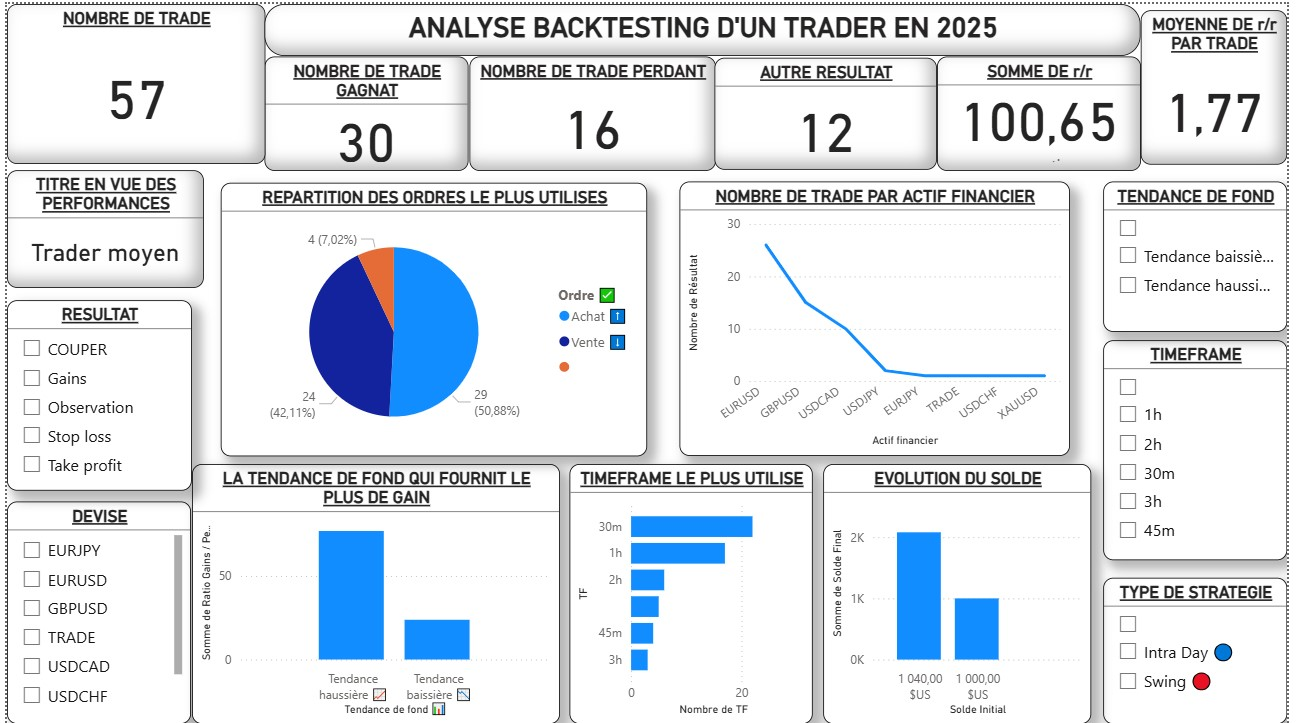

Layout of this report page (visuals, bound fields, positions):
{"tool":"powerbi","page":{"name":"ANALYSE BACKTESTING","canvas":[1280,720],"ordinal":0},"visuals":[{"type":"card","title":"NOMBRE DE TRADE GAGNAT","fields":{"Values":["Sum(Backtesting 2025.Win)"]},"box":[258,52,204,114],"z":0},{"type":"card","title":"NOMBRE DE TRADE PERDANT","fields":{"Values":["Sum(Backtesting 2025.Lose)"]},"box":[462,52,246,114],"z":1000},{"type":"card","title":"AUTRE RESULTAT","fields":{"Values":["Sum(Backtesting 2025.Autre_Resultat)"]},"box":[708,54,222,112],"z":2000},{"type":"card","title":"SOMME DE r/r","fields":{"Values":["Backtesting 2025.sumratio"]},"box":[930,52,204,114],"z":3000},{"type":"slicer","title":"TYPE DE STRATEGIE","fields":{"Values":["Backtesting 2025.STRATEGIE🏦 "]},"box":[1096,574,184,146],"z":4000},{"type":"slicer","title":"TIMEFRAME","fields":{"Values":["Backtesting 2025.TF"]},"box":[1096,336,184,220],"z":5000},{"type":"slicer","title":"TENDANCE DE FOND","fields":{"Values":["Backtesting 2025.Tendance de fond 📊 "]},"box":[1096.2,177.5,183.8,150],"z":6000},{"type":"slicer","title":"DEVISE","fields":{"Values":["Backtesting 2025.Actif financier"]},"box":[0,498,184,222],"z":7000},{"type":"lineChart","title":"NOMBRE DE TRADE PAR ACTIF FINANCIER","fields":{"Category":["Backtesting 2025.Actif financier"],"Y":["CountNonNull(Backtesting 2025.Résultat)"]},"box":[672,178,390,274],"z":8000},{"type":"clusteredColumnChart","title":"LA TENDANCE DE FOND QUI FOURNIT LE PLUS DE GAIN","fields":{"Category":["Backtesting 2025.Tendance de fond 📊 "],"Y":["Sum(Backtesting 2025.Ratio Gains / Pertes)"]},"box":[184.4,460,367.8,260],"z":9000},{"type":"slicer","title":"RESULTAT","fields":{"Values":["Backtesting 2025.Résultat"]},"box":[0,296.7,184.4,190],"z":10000},{"type":"pieChart","title":"REPARTITION DES ORDRES LE PLUS UTILISES","fields":{"Category":["Backtesting 2025.Ordre ✅ "],"Y":["Backtesting 2025.Quantité Totale"]},"box":[213.3,178.3,426.7,273.3],"z":11000},{"type":"card","title":"MOYENNE DE r/r PAR TRADE","fields":{"Values":["Backtest Stat.moyr"]},"box":[1134,6,146,154],"z":12000},{"type":"card","title":"TITRE EN VUE DES PERFORMANCES","fields":{"Values":["Backtesting 2025.Appreciation"]},"box":[0,166.7,196.7,117.8],"z":13000},{"type":"barChart","title":"TIMEFRAME LE PLUS UTILISE","fields":{"Y":["CountNonNull(Backtesting 2025.TF)"],"Category":["Backtesting 2025.TF"]},"box":[562.2,460,243.3,260],"z":14000},{"type":"columnChart","title":"EVOLUTION DU SOLDE","fields":{"Category":["Backtest Stat.Solde Initial"],"Y":["Sum(Backtest Stat.Solde Final)"]},"box":[816,460,268,260],"z":15000},{"type":"card","title":"NOMBRE DE TRADE","fields":{"Values":["Backtesting 2025.Quantité Totale"]},"box":[0,0,258,160],"z":16000},{"type":"textbox","title":"ANALYSE BACKTESTING D''UN TRADER EN 2025","box":[258,0,876,52],"z":17000}]}

Visuals, with their boxes in screenshot pixels (x1, y1, x2, y2), scaled from the page's 1280x720 canvas onto the 1296x723 screenshot:
"NOMBRE DE TRADE GAGNAT" card: 261:52:468:167
"NOMBRE DE TRADE PERDANT" card: 468:52:717:167
"AUTRE RESULTAT" card: 717:54:942:167
"SOMME DE r/r" card: 942:52:1148:167
"TYPE DE STRATEGIE" slicer: 1110:576:1295:722
"TIMEFRAME" slicer: 1110:337:1295:558
"TENDANCE DE FOND" slicer: 1110:178:1295:329
"DEVISE" slicer: 0:500:186:722
"NOMBRE DE TRADE PAR ACTIF FINANCIER" lineChart: 680:179:1075:454
"LA TENDANCE DE FOND QUI FOURNIT LE PLUS DE GAIN" clusteredColumnChart: 187:462:559:722
"RESULTAT" slicer: 0:298:187:489
"REPARTITION DES ORDRES LE PLUS UTILISES" pieChart: 216:179:648:453
"MOYENNE DE r/r PAR TRADE" card: 1148:6:1295:161
"TITRE EN VUE DES PERFORMANCES" card: 0:167:199:286
"TIMEFRAME LE PLUS UTILISE" barChart: 569:462:816:722
"EVOLUTION DU SOLDE" columnChart: 826:462:1098:722
"NOMBRE DE TRADE" card: 0:0:261:161
"ANALYSE BACKTESTING D''UN TRADER EN 2025" textbox: 261:0:1148:52
